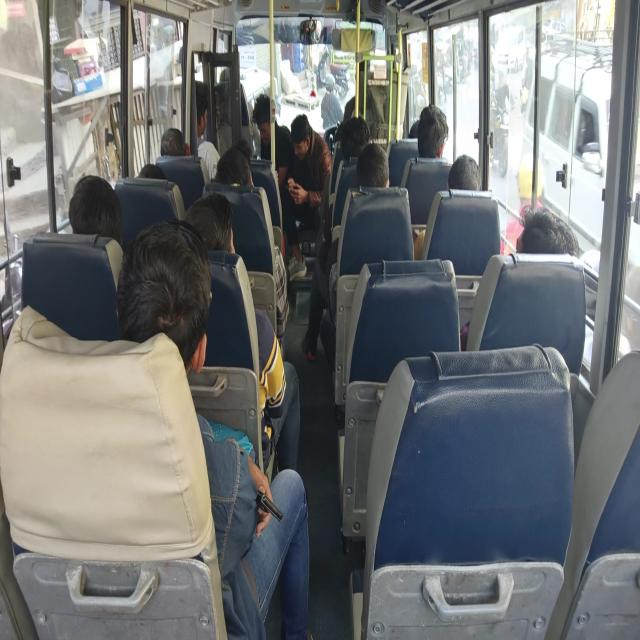person: (116, 218, 311, 639), (184, 191, 300, 474), (301, 142, 390, 368), (460, 205, 580, 349), (214, 144, 289, 358), (252, 93, 307, 279), (281, 113, 332, 279), (412, 153, 482, 260), (504, 150, 545, 254), (68, 174, 122, 246), (252, 93, 293, 186), (516, 204, 580, 256), (194, 80, 220, 182), (416, 103, 448, 159), (214, 145, 253, 187), (355, 142, 390, 188), (338, 116, 370, 158), (320, 75, 343, 130), (448, 154, 482, 190), (160, 127, 186, 156), (136, 163, 166, 179)
